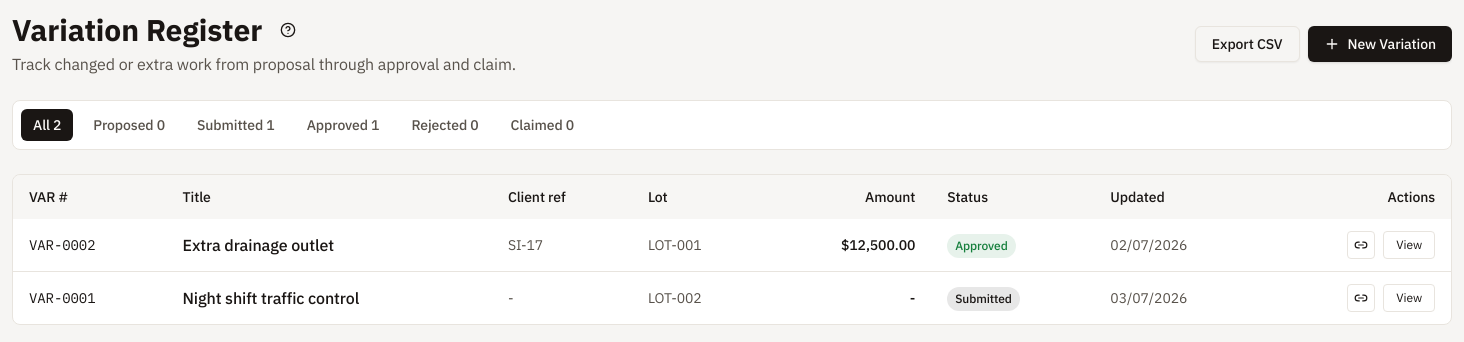
Test: VariationsPage › renders register rows and filters by status
Expected: the text "VAR-0002" is shown, [13,219,166,272]
Expected: the button "Extra drainage outlet" is shown, [182,233,334,257]
Click the button "Approved 1" at (343, 125), box [295,109,391,141]
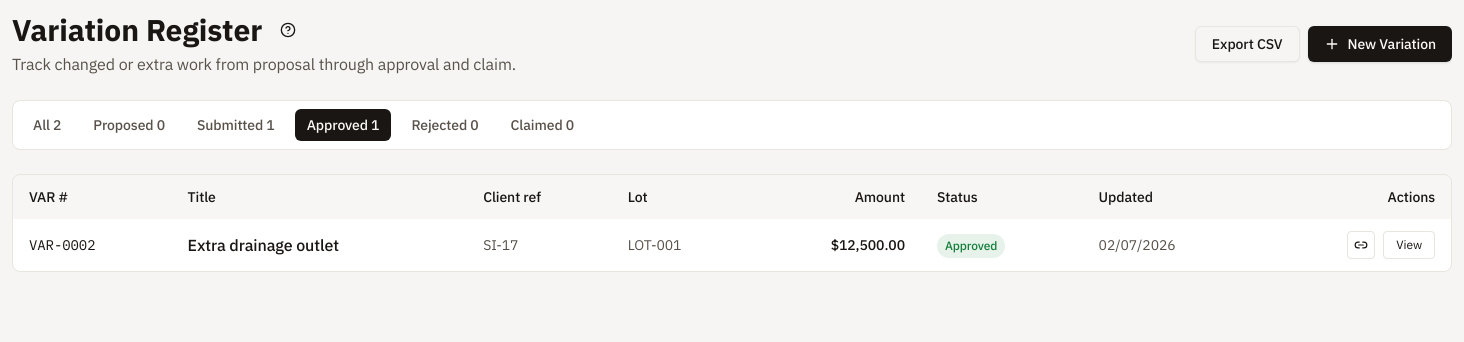
Expected: the button "Extra drainage outlet" is shown, [188,233,339,257]
Result: the button "Night shift traffic control" is gone
